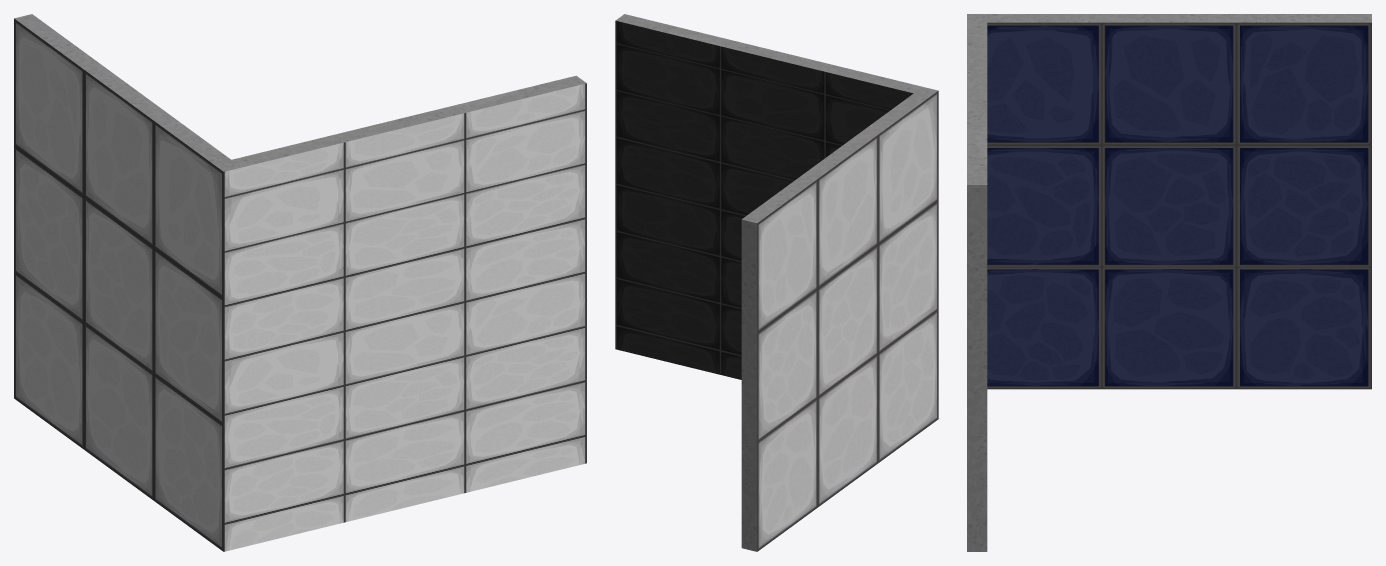
The model's file is SM_Corner_Wall_In.fbx.
The picture shows the model from 3 angles, left to right: view 1: azimuth 30°, elevation 25°; view 2: azimuth 150°, elevation 25°; view 3: azimuth 270°, elevation 25°; orthographic projection. The views are drawn at different scales.
Visible parts, largest first — view 1: SM_Corner_Wall_In; view 2: SM_Corner_Wall_In; view 3: SM_Corner_Wall_In.
Part boxes in pixels (x1,y1,x2,y2): SM_Corner_Wall_In: (14,14,586,551); SM_Corner_Wall_In: (615,14,938,551); SM_Corner_Wall_In: (967,14,1371,551).
Size of the model in its own units: 400 by 400 by 400.
